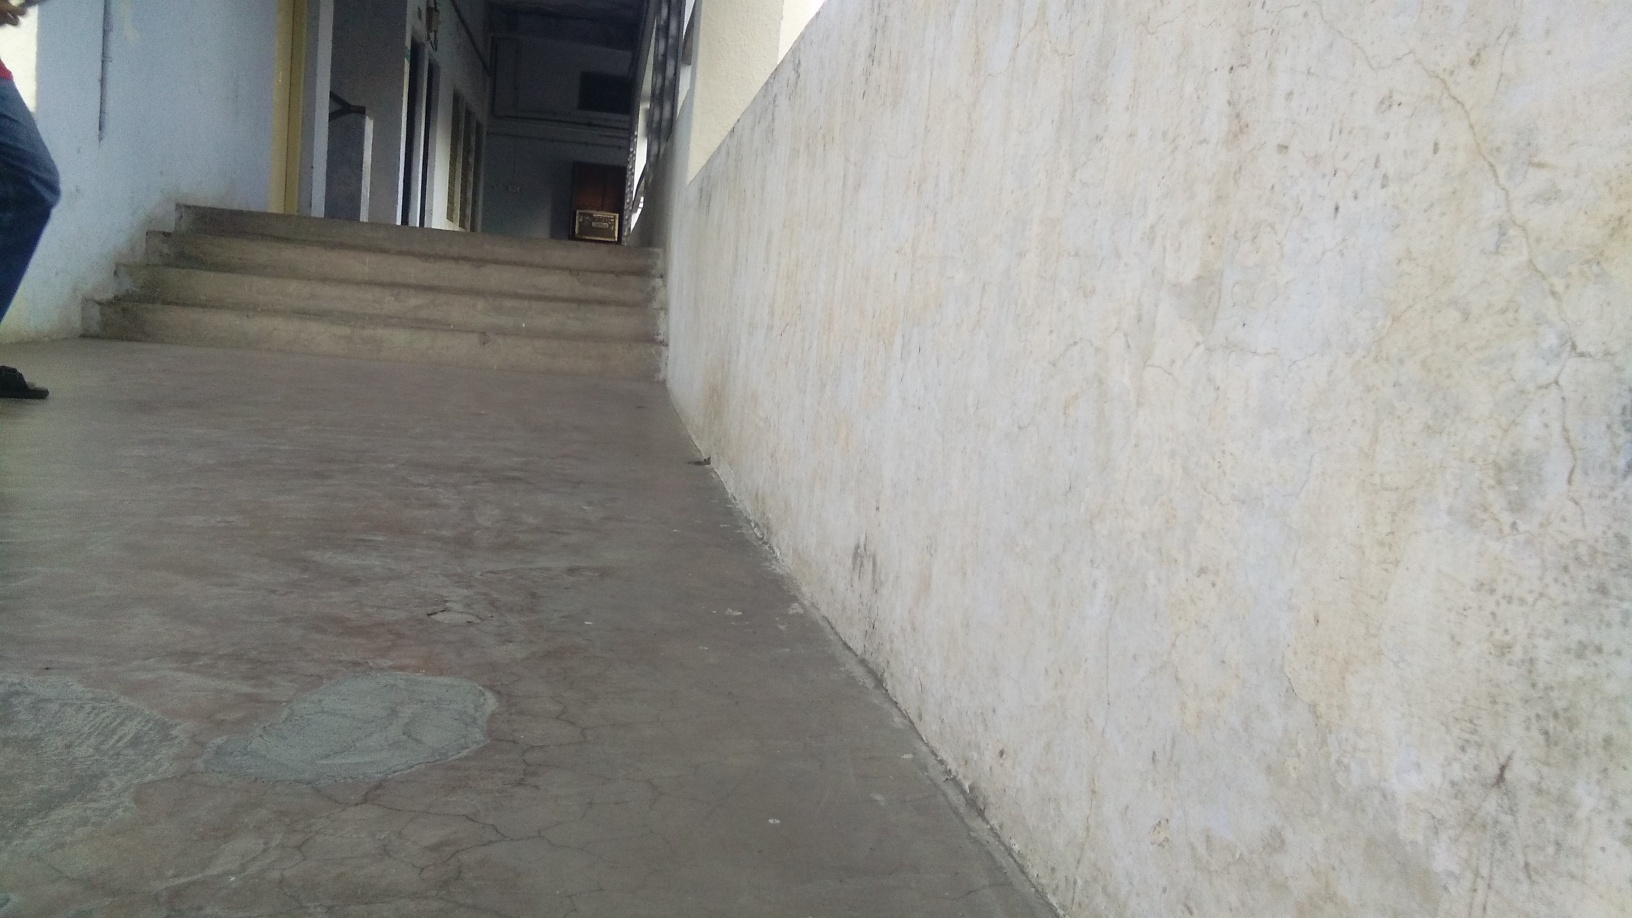stairs_up: (66, 230, 673, 367)
